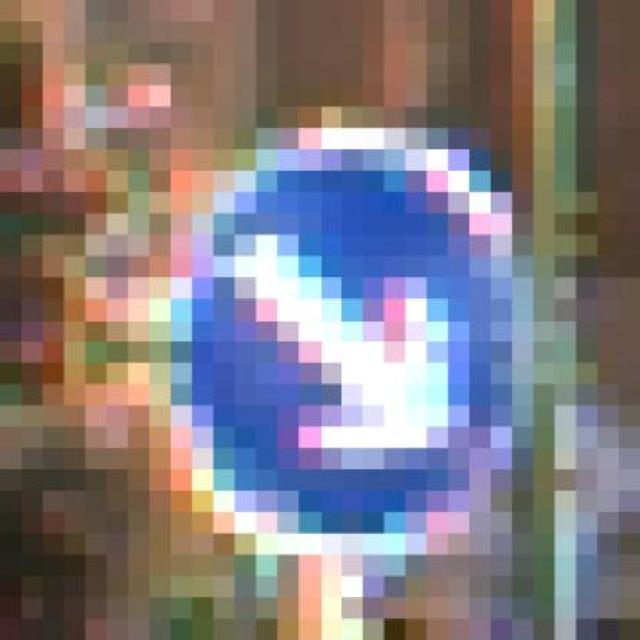Keep-Right: (150, 64, 556, 576)
